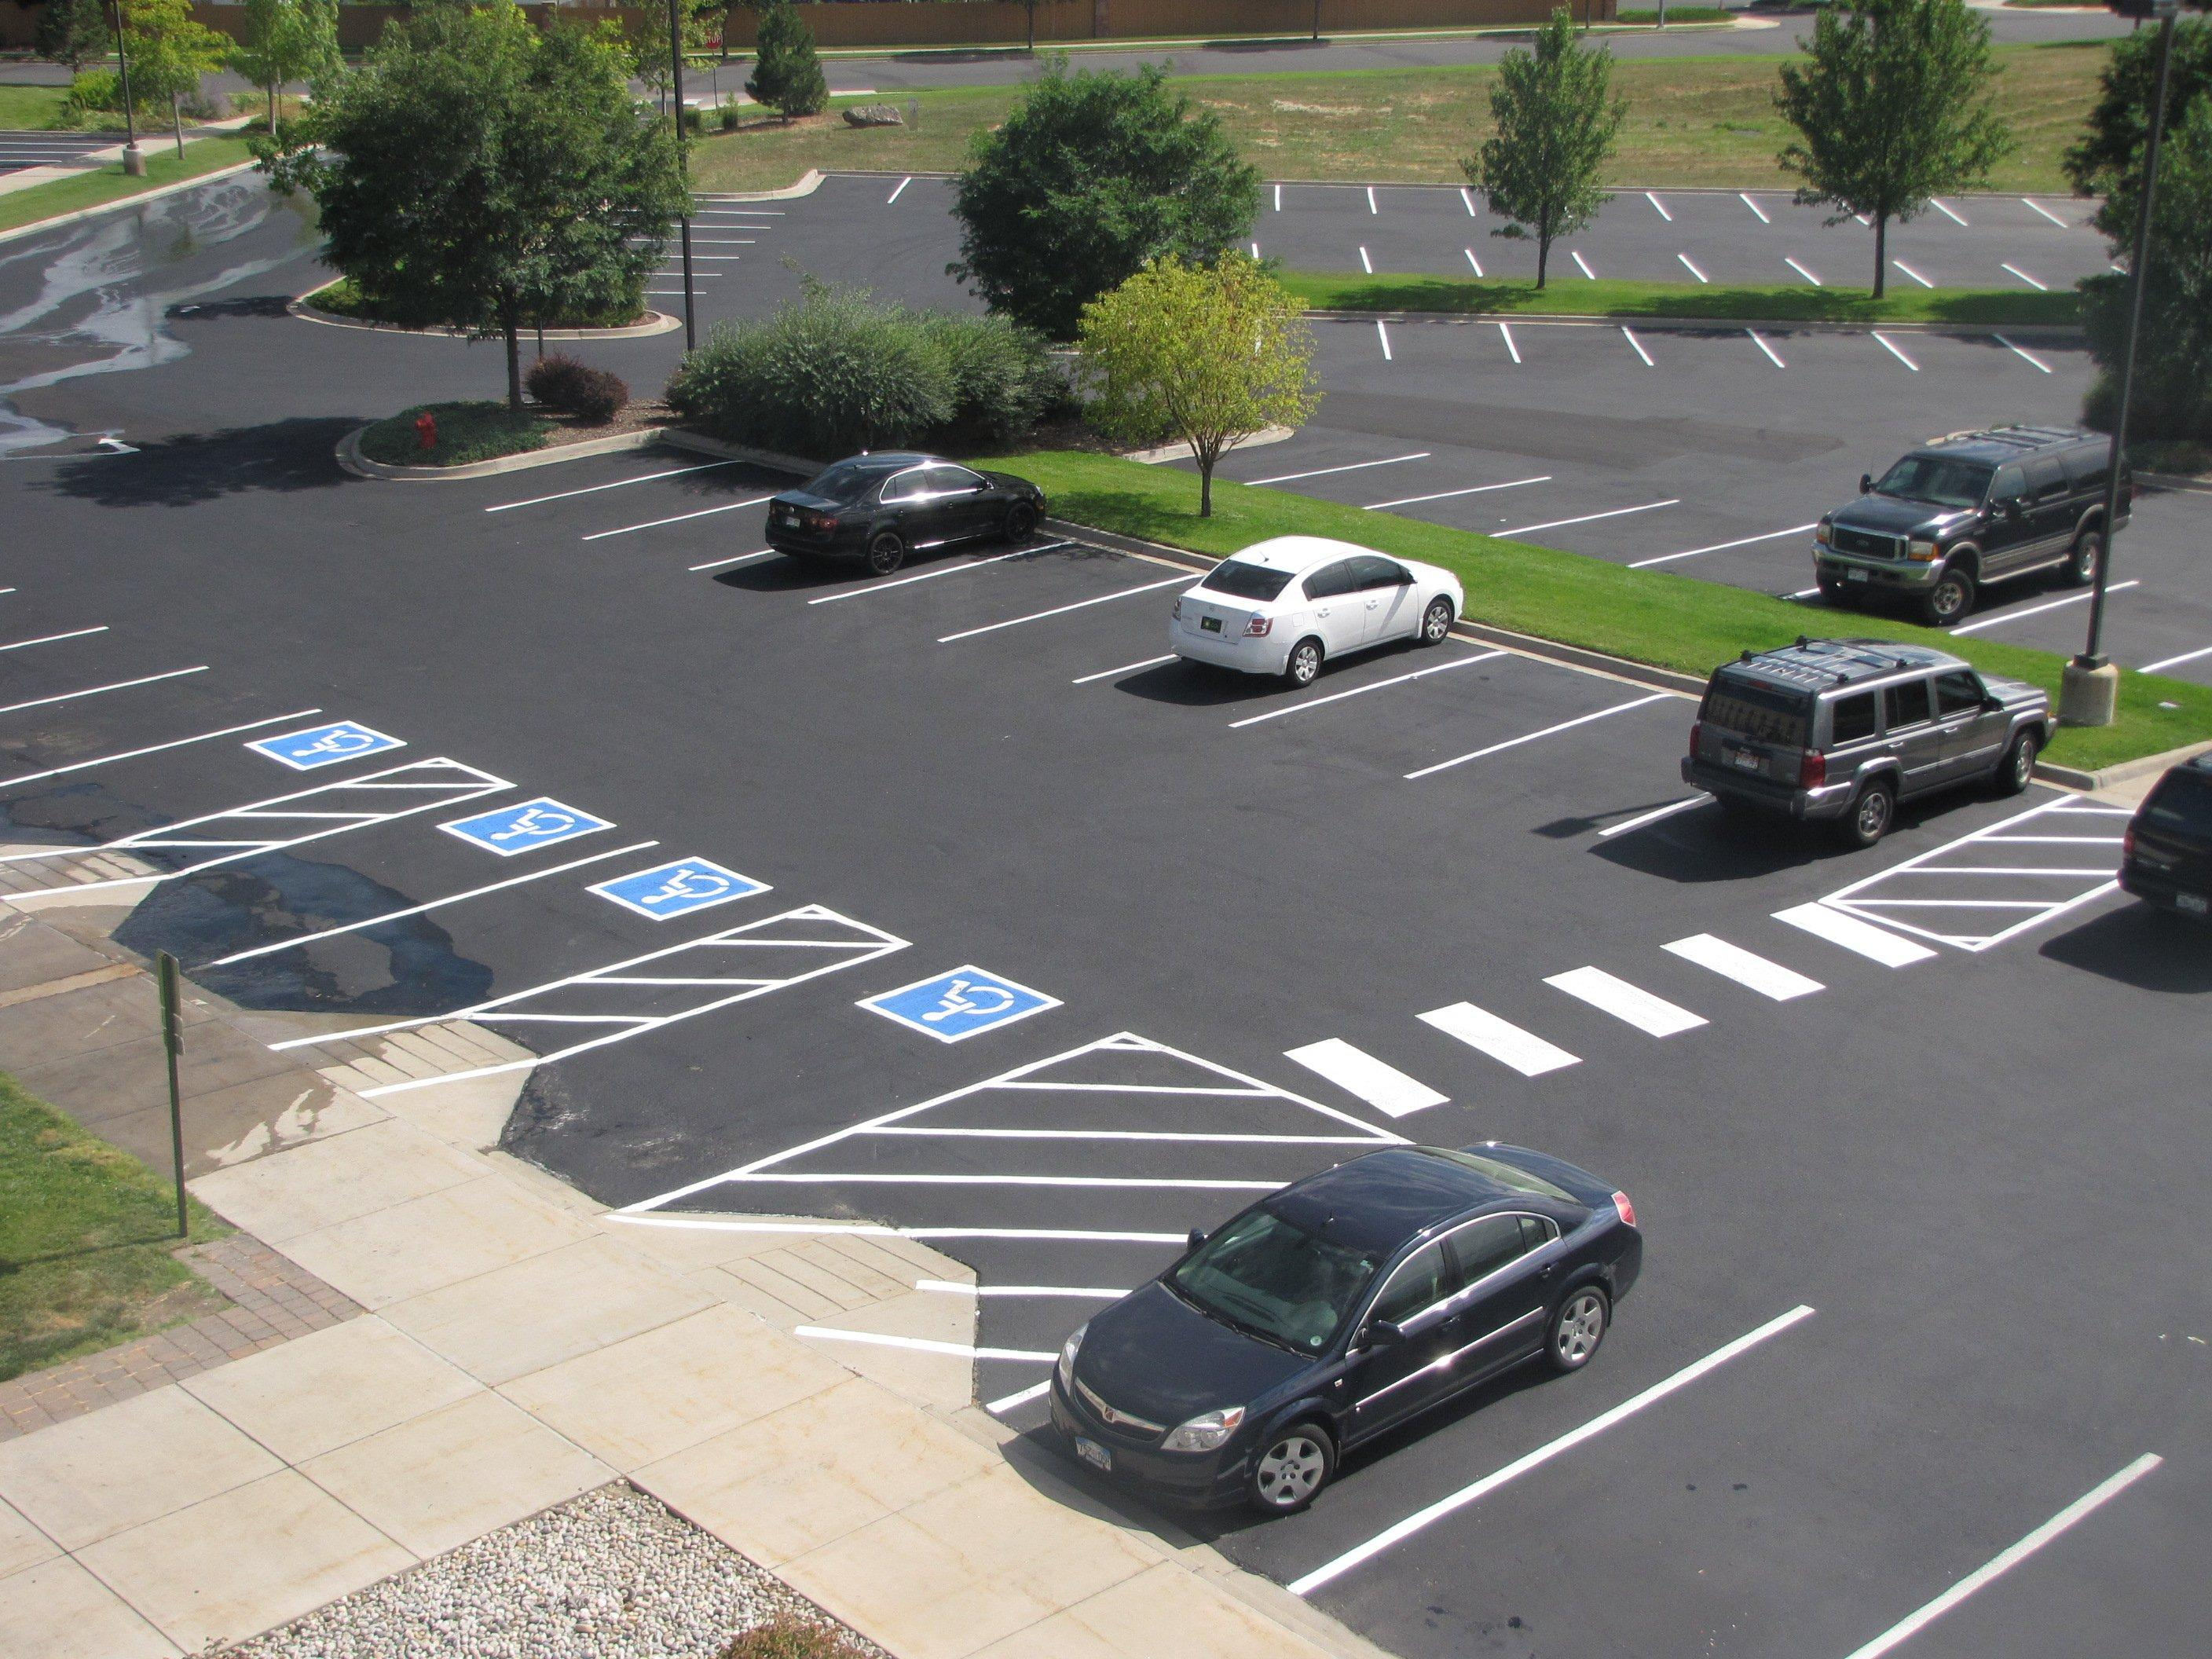empty: (1042, 1136, 1655, 1507), (1658, 643, 2048, 852), (1794, 422, 2142, 631), (1148, 530, 1446, 694), (737, 451, 1042, 586), (2116, 739, 2212, 1002)
occupied: (1566, 1446, 1878, 1657), (1543, 732, 1684, 810), (1420, 676, 1538, 734), (44, 701, 164, 753), (1062, 603, 1167, 657), (1277, 322, 1386, 373), (826, 152, 899, 220), (1202, 443, 1312, 486), (956, 566, 1057, 613), (1397, 328, 1501, 373), (1522, 331, 1625, 376), (1726, 545, 1820, 594), (1655, 336, 1752, 378), (1792, 340, 1886, 382), (1921, 333, 2010, 376), (1474, 491, 1562, 530), (1381, 240, 1461, 281), (1285, 181, 1364, 220), (1606, 519, 1695, 552), (676, 518, 752, 556), (1346, 472, 1430, 505), (1477, 237, 1552, 274), (1766, 185, 1838, 218), (1620, 256, 1695, 288), (1670, 188, 1738, 221), (1383, 186, 1454, 218), (608, 491, 679, 521), (1728, 260, 1796, 288), (1679, 199, 1747, 227), (538, 460, 604, 488), (1946, 261, 2010, 288)
